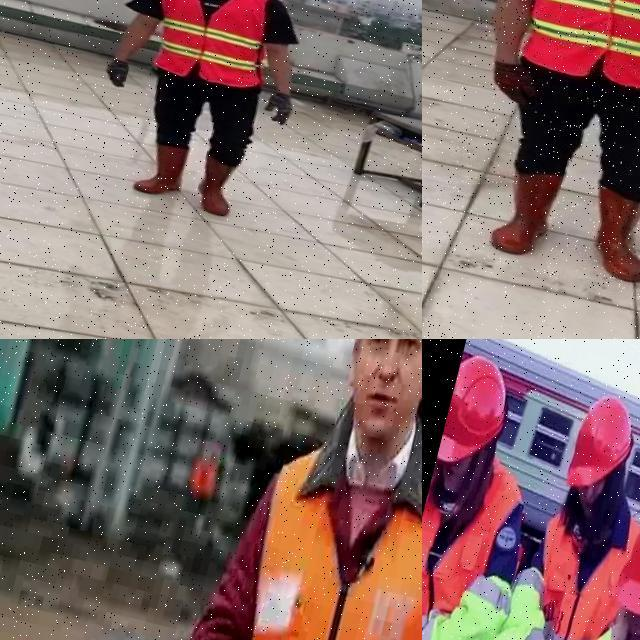boots: (486, 163, 566, 261), (575, 181, 640, 285), (132, 138, 190, 202), (189, 153, 244, 217)
helmet: (436, 347, 520, 474), (563, 392, 640, 499), (614, 486, 640, 623)
vest: (202, 418, 422, 640), (422, 444, 544, 640), (512, 499, 638, 640), (509, 0, 640, 102), (145, 0, 282, 93)
